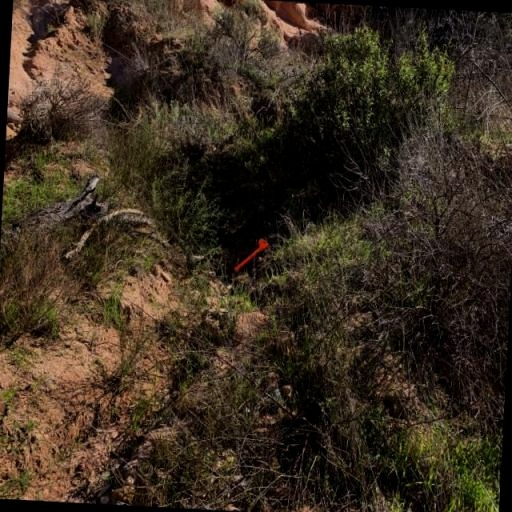mallet: (234, 237, 271, 275)
